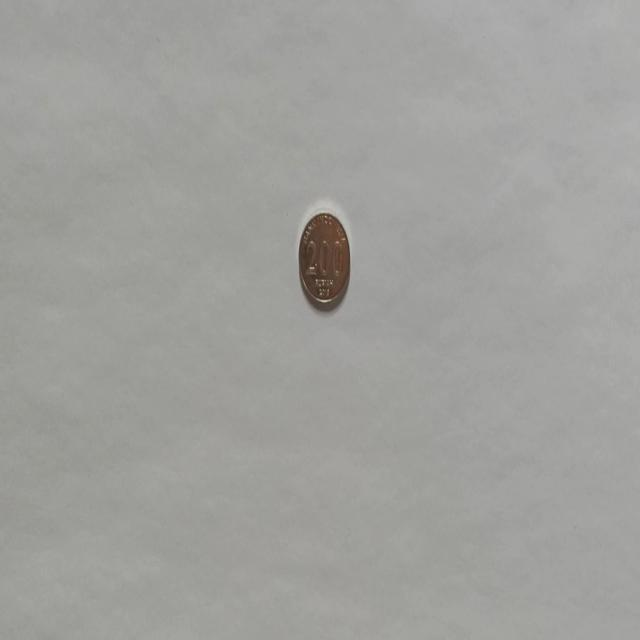dua ratus rupiah: (298, 209, 350, 311)
